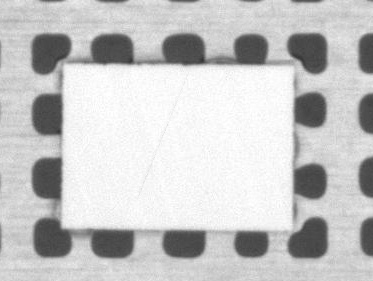DIE_CRACK: (182, 54, 250, 149)
